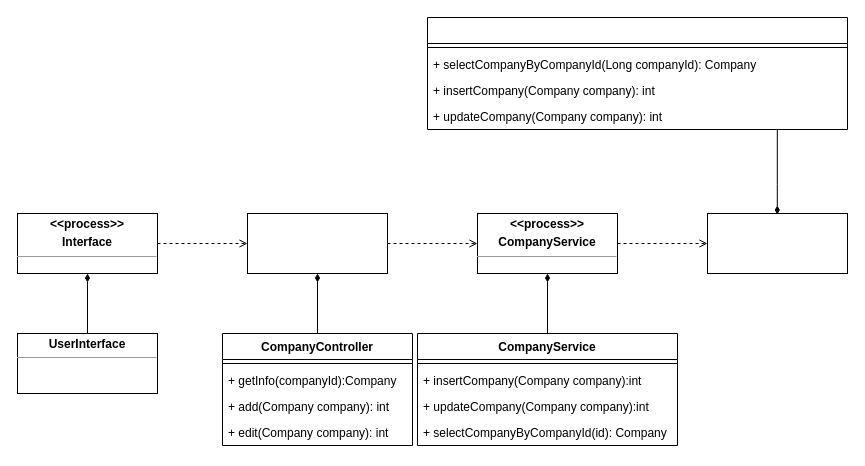
Some shapes in this 865 by 466 pixel diagram are drawn without their labels. The shapes that lost their labels are listed below. From the top down, each one's box as (x1, y1, x2, y2) in pixels, then its label:
(426, 16, 848, 130): CompanyMapper
(246, 212, 388, 274): <<process>> CompanyController
(706, 212, 848, 274): <<process>> CompanyDao
